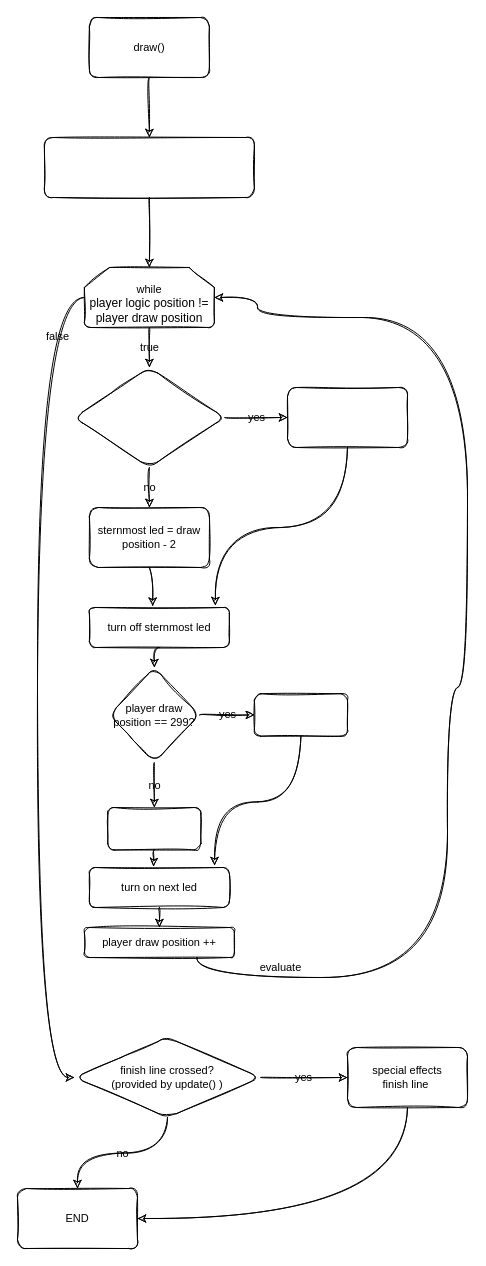
This 486x1266 diagram has some shape labels left out. Here are the shapes that lost their labels. From the top down, the centre of each, then its label:
point (148, 167): get logic position from update
point (148, 417): player draw position == 0 OR 1 ?
point (347, 417): draw position 0: sternmost led = 298; draw position 1: sternmost led = 299;
point (300, 714): next led = 0;
point (154, 828): next led = draw position + 1;
